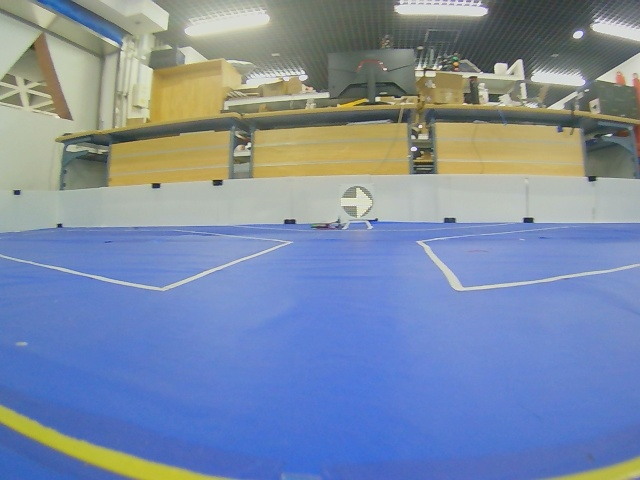right_yellow: (341, 186, 373, 219)
